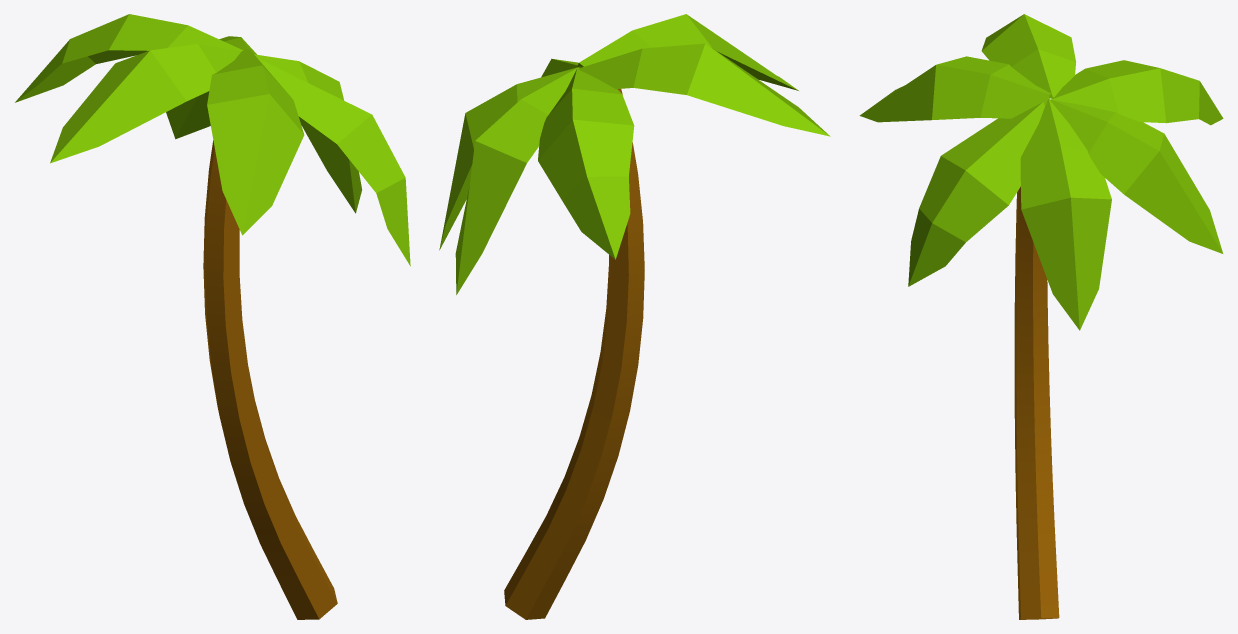
File: CoconutTree2.fbx
3 views of the same model, side by side, from view 1: azimuth 30°, elevation 25°; view 2: azimuth 150°, elevation 25°; view 3: azimuth 270°, elevation 25° (orthographic). The views are drawn at different scales.
Parts seen in each view (by area): view 1: yezishu2; view 2: yezishu2; view 3: yezishu2.
Part boxes in pixels (<box>): yezishu2: <box>15,14,410,619</box>; yezishu2: <box>439,14,830,619</box>; yezishu2: <box>859,14,1223,619</box>.
Size of the model in its own units: 15.26 by 25.49 by 15.6.
